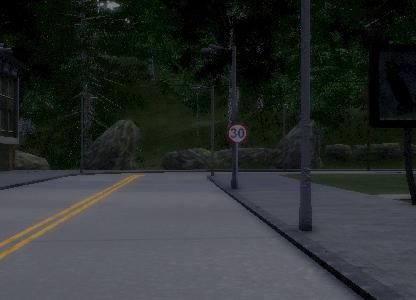Speed_30: (228, 123, 247, 145)
